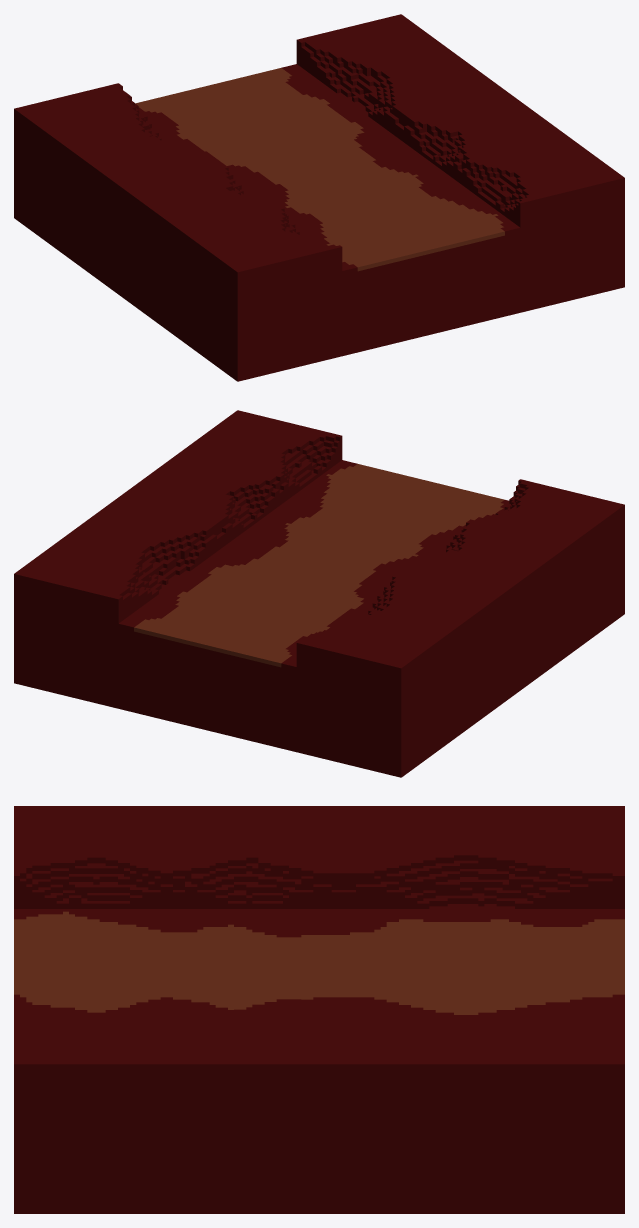
The model's file is Ground_Path_Center.obj.
3 renders of one model, top to bottom at view 1: azimuth 30°, elevation 25°; view 2: azimuth 150°, elevation 25°; view 3: azimuth 270°, elevation 25°, orthographic. The views are drawn at different scales.
Parts seen in each view (by area): view 1: Ground_Path_Center; view 2: Ground_Path_Center; view 3: Ground_Path_Center.
Part boxes in pixels (box(x1,y1,x2,y2)): Ground_Path_Center: box(14, 14, 624, 381); Ground_Path_Center: box(14, 410, 624, 777); Ground_Path_Center: box(14, 806, 624, 1213).
Bounding box in the file's own units: 100 × 27 × 100.
Materials: 1 (1 with a texture image).
